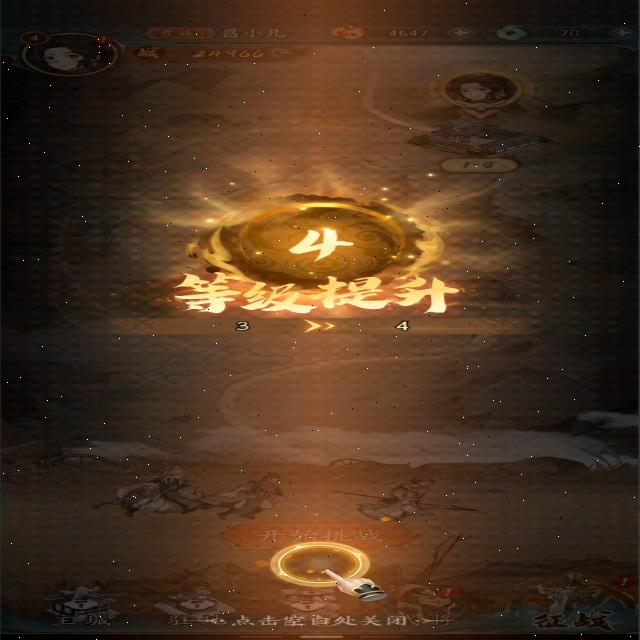hint-guide: (263, 539, 394, 604)
